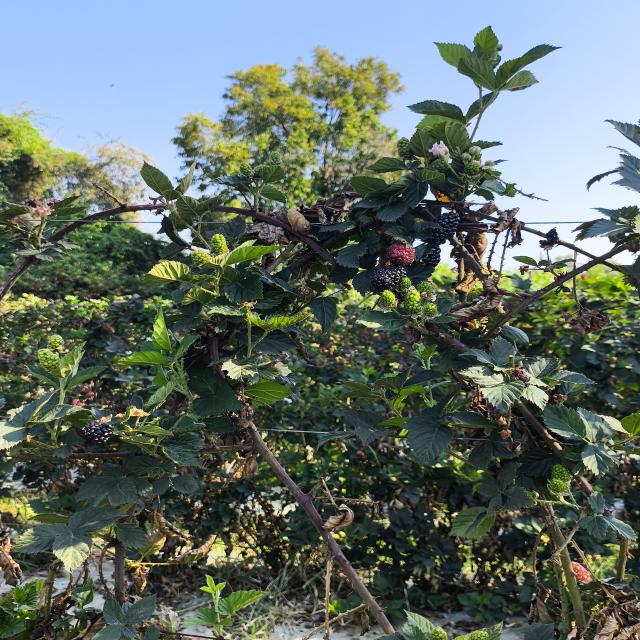maduro: (371, 266, 407, 291), (431, 212, 459, 244), (78, 423, 113, 444), (423, 246, 441, 268)
marron: (387, 243, 415, 265)
